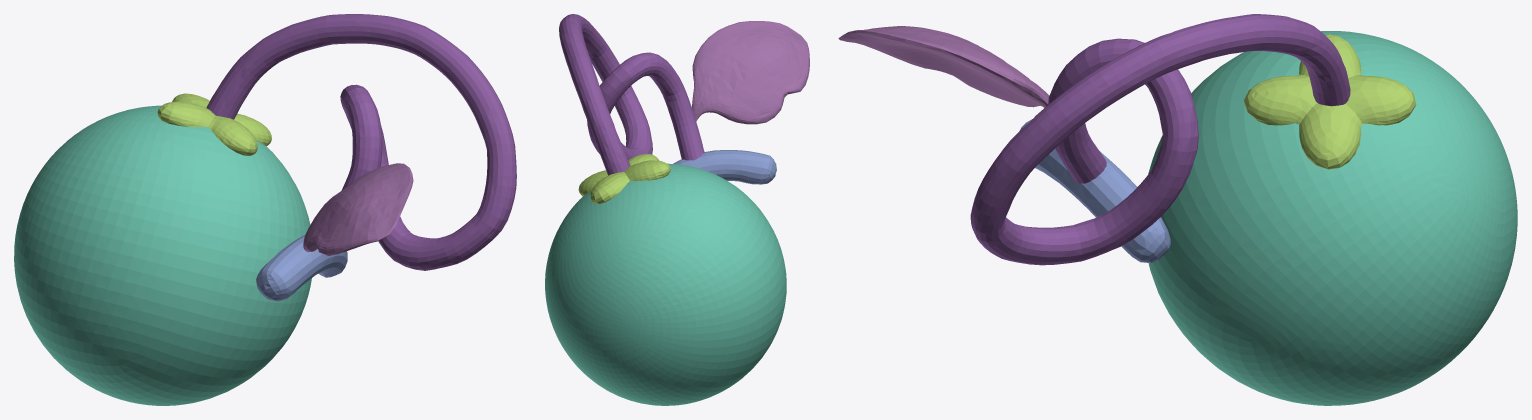
The picture shows the model from 3 angles, left to right: view 1: azimuth 30°, elevation 25°; view 2: azimuth 150°, elevation 25°; view 3: azimuth 270°, elevation 25°; orthographic projection. The views are drawn at different scales.
Visible parts, largest first — view 1: world; view 2: world; view 3: world.
Boxes of the visible parts, <box> form: world: <box>14,14,516,405</box>; world: <box>545,14,809,405</box>; world: <box>838,14,1517,405</box>.
Size of the model in its own units: 0.7546 by 0.7559 by 1.
